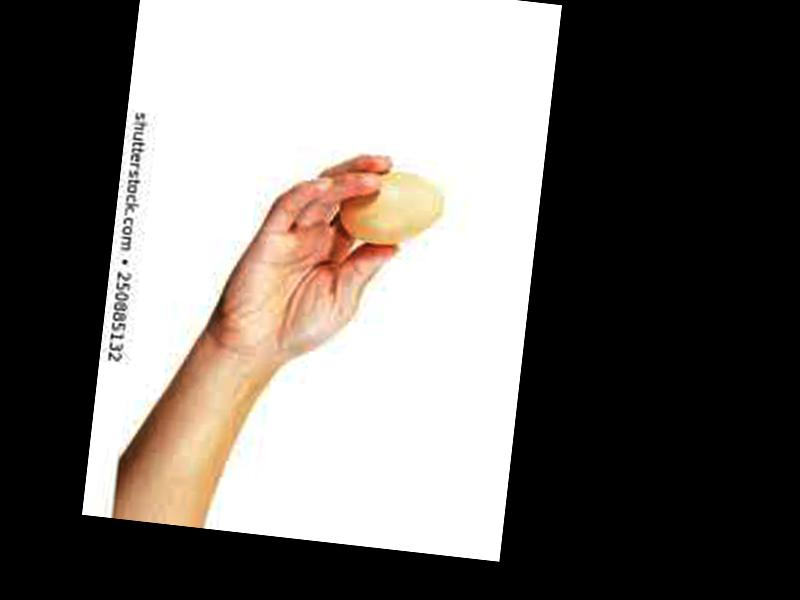Eggs: (332, 165, 448, 251)
